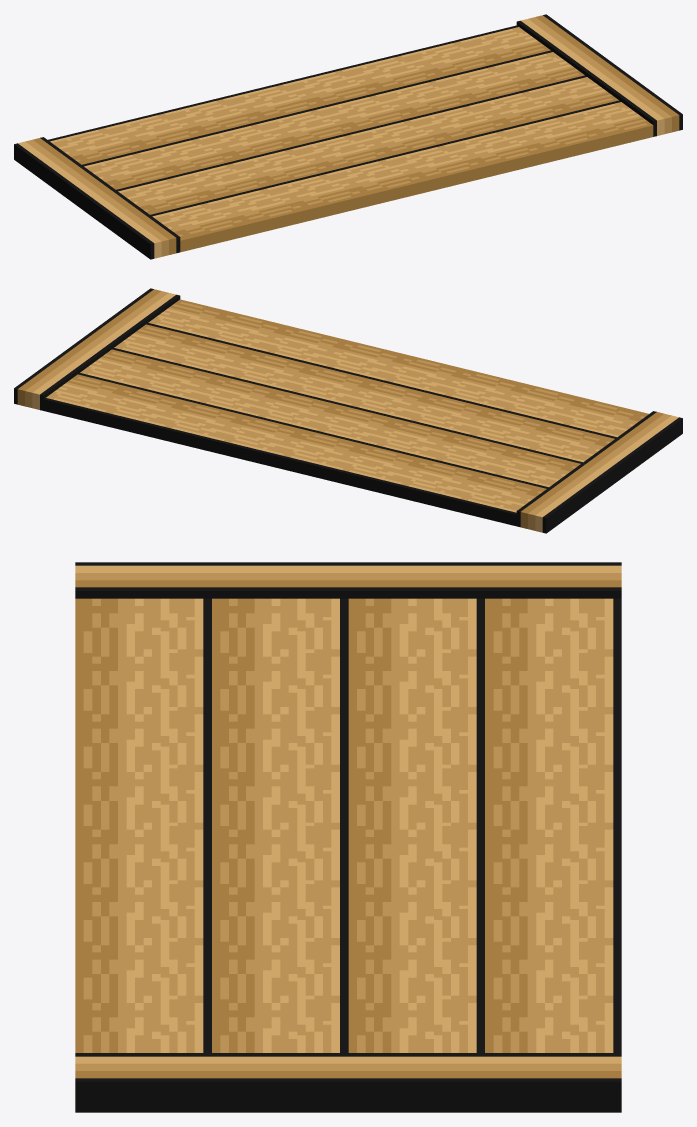
File: Boardwalk4x.obj
3 views of the same model, one above another, from view 1: azimuth 30°, elevation 25°; view 2: azimuth 150°, elevation 25°; view 3: azimuth 270°, elevation 25° (orthographic). The views are drawn at different scales.
Size of the model in its own units: 14.4 by 0.4 by 6.4.
1 material, 1 textured.
